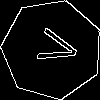V: (27, 24, 81, 69)
